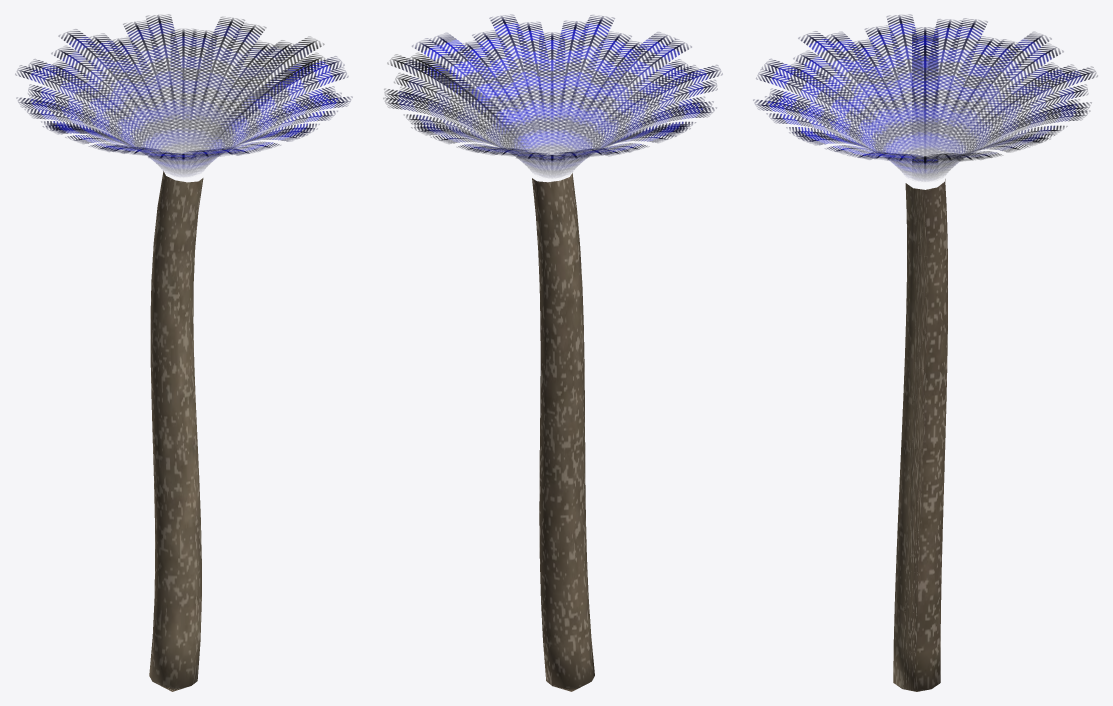
The model's file is feather_duster.glb.
3 views of the same model, side by side, from view 1: azimuth 30°, elevation 25°; view 2: azimuth 150°, elevation 25°; view 3: azimuth 270°, elevation 25° (orthographic).
Visible parts, largest first — view 1: Crown, Tube; view 2: Crown, Tube; view 3: Crown, Tube.
Boxes of the visible parts, x1,y1,x2,y2 form: Crown: (15,14,352,175); Tube: (149,171,203,691); Crown: (383,14,722,176); Tube: (532,173,594,691); Crown: (753,14,1097,180); Tube: (893,179,947,691).
Size of the model in its own units: 8.44 by 16.27 by 8.36.
Materials: 2 (2 with a texture image).
